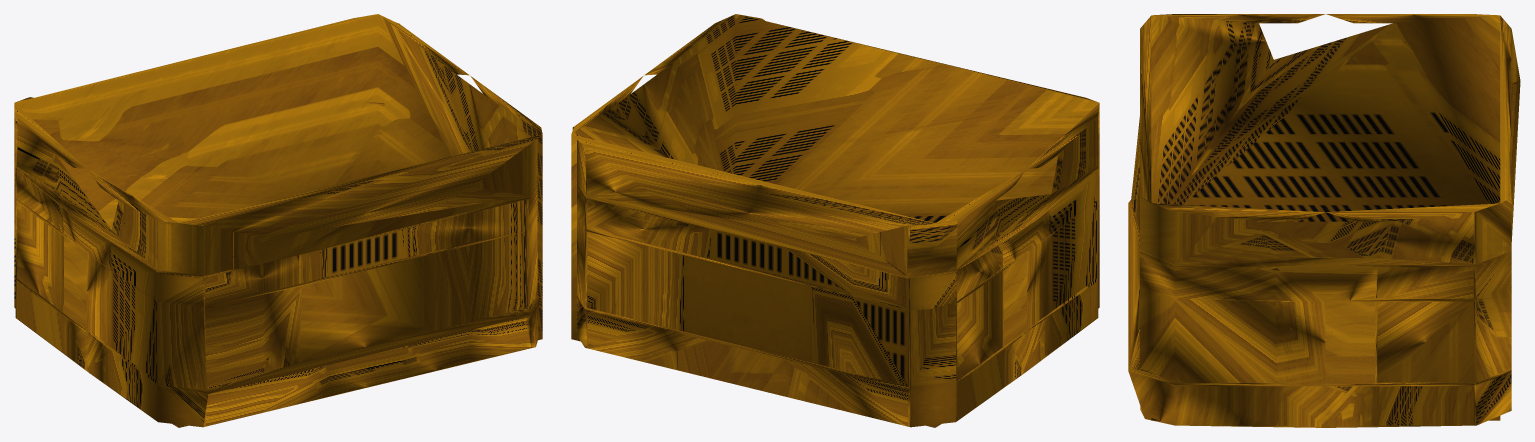
The model's file is plastic_crate_02_opt.gltf.
3 renders of one model, left to right at view 1: azimuth 30°, elevation 25°; view 2: azimuth 150°, elevation 25°; view 3: azimuth 270°, elevation 25°, orthographic. The views are drawn at different scales.
Parts seen in each view (by area): view 1: plastic_crate_02; view 2: plastic_crate_02; view 3: plastic_crate_02.
Part boxes in pixels (x1=…): plastic_crate_02: x1=14, y1=14, x2=542, y2=427; plastic_crate_02: x1=571, y1=14, x2=1099, y2=427; plastic_crate_02: x1=1128, y1=14, x2=1520, y2=427.
Size of the model in its own units: 0.4937 by 0.2504 by 0.4027.
Materials: 1 (1 with a texture image).
